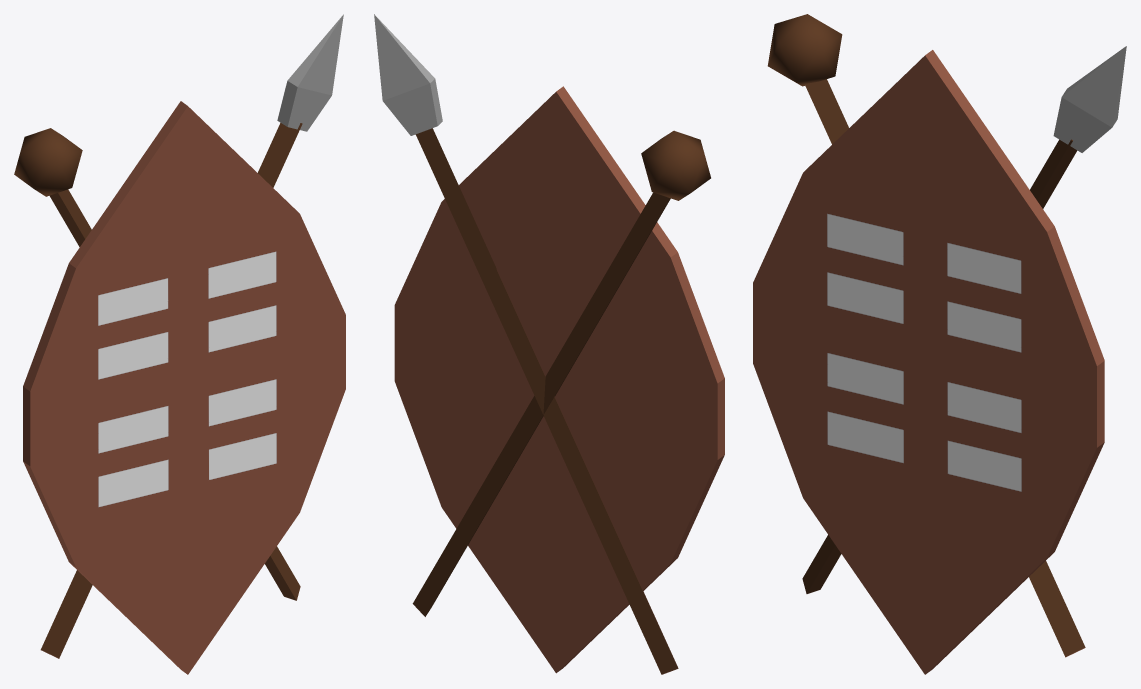
The model's file is M_Pickup_Shield.fbx.
The picture shows the model from 3 angles, left to right: view 1: azimuth 30°, elevation 25°; view 2: azimuth 150°, elevation 25°; view 3: azimuth 330°, elevation 25°; orthographic projection. The views are drawn at different scales.
Parts seen in each view (by area): view 1: Shield; view 2: Shield; view 3: Shield.
Boxes of the visible parts, x1,y1,x2,y2 form: Shield: (14, 14, 345, 674); Shield: (374, 14, 724, 674); Shield: (753, 14, 1126, 674).
Size of the model in its own units: 17.35 by 30.73 by 2.92.
